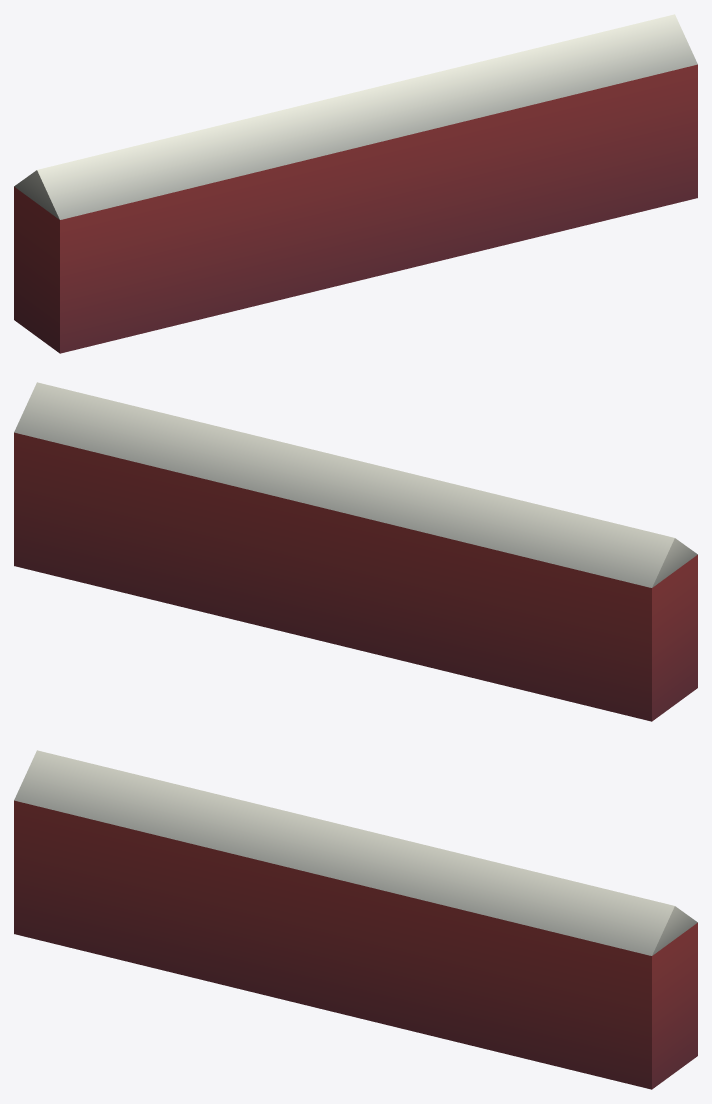
Rendered from Wall_Low_Brick_02.fbx.
The picture shows the model from 3 angles, top to bottom: view 1: azimuth 30°, elevation 25°; view 2: azimuth 150°, elevation 25°; view 3: azimuth 330°, elevation 25°; orthographic projection.
Visible parts, largest first — view 1: Wall_Low_Brick_02; view 2: Wall_Low_Brick_02; view 3: Wall_Low_Brick_02.
Boxes of the visible parts, x1,y1,x2,y2 form: Wall_Low_Brick_02: [14, 14, 697, 353]; Wall_Low_Brick_02: [14, 382, 697, 721]; Wall_Low_Brick_02: [14, 750, 697, 1089].
Size of the model in its own units: 400 by 100 by 50.
